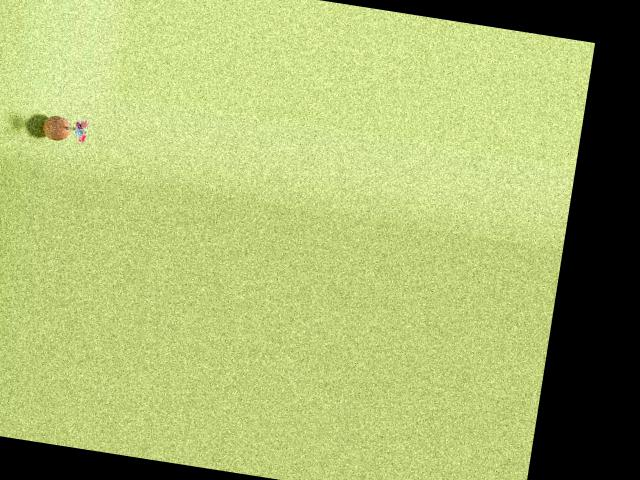egg: (41, 113, 72, 141)
